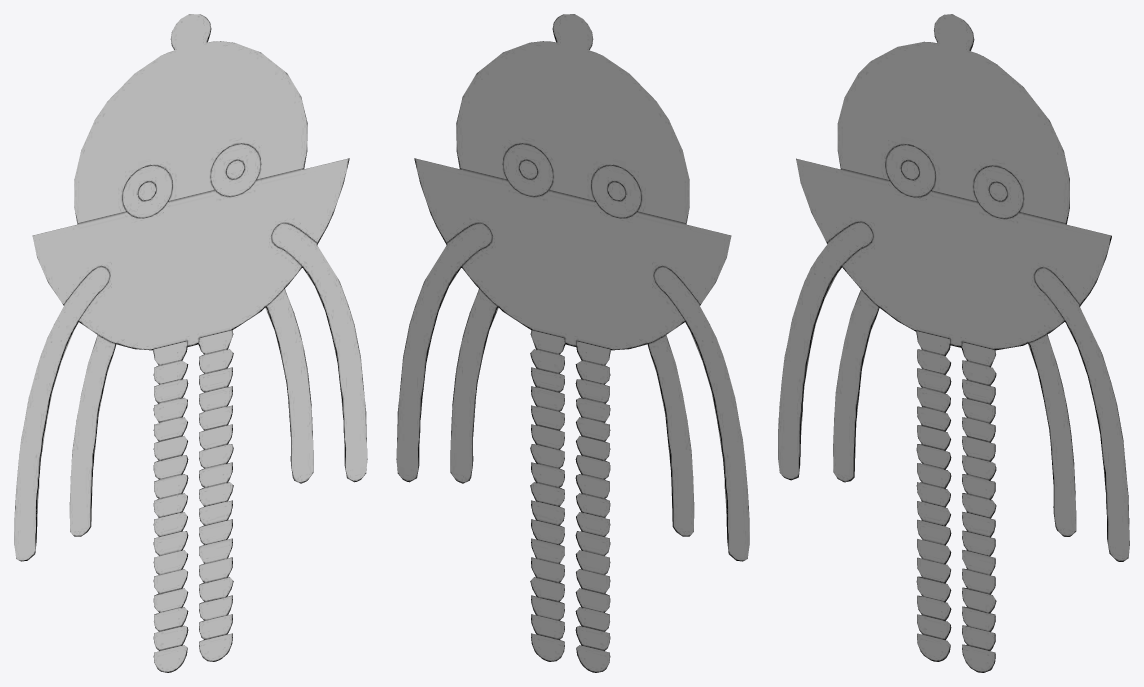
File: 17_tamki_fix.fbx
3 renders of one model, left to right at view 1: azimuth 30°, elevation 25°; view 2: azimuth 150°, elevation 25°; view 3: azimuth 330°, elevation 25°, orthographic.
Parts seen in each view (by area): view 1: planarTrimmedSurface25; view 2: planarTrimmedSurface25; view 3: planarTrimmedSurface25.
Boxes of the visible parts, <box> form: planarTrimmedSurface25: <box>14,14,367,672</box>; planarTrimmedSurface25: <box>396,14,749,672</box>; planarTrimmedSurface25: <box>778,14,1129,672</box>.
Size of the model in its own units: 8.21 by 14.54 by 2.37e-06.
Materials: 1 (1 with a texture image).
